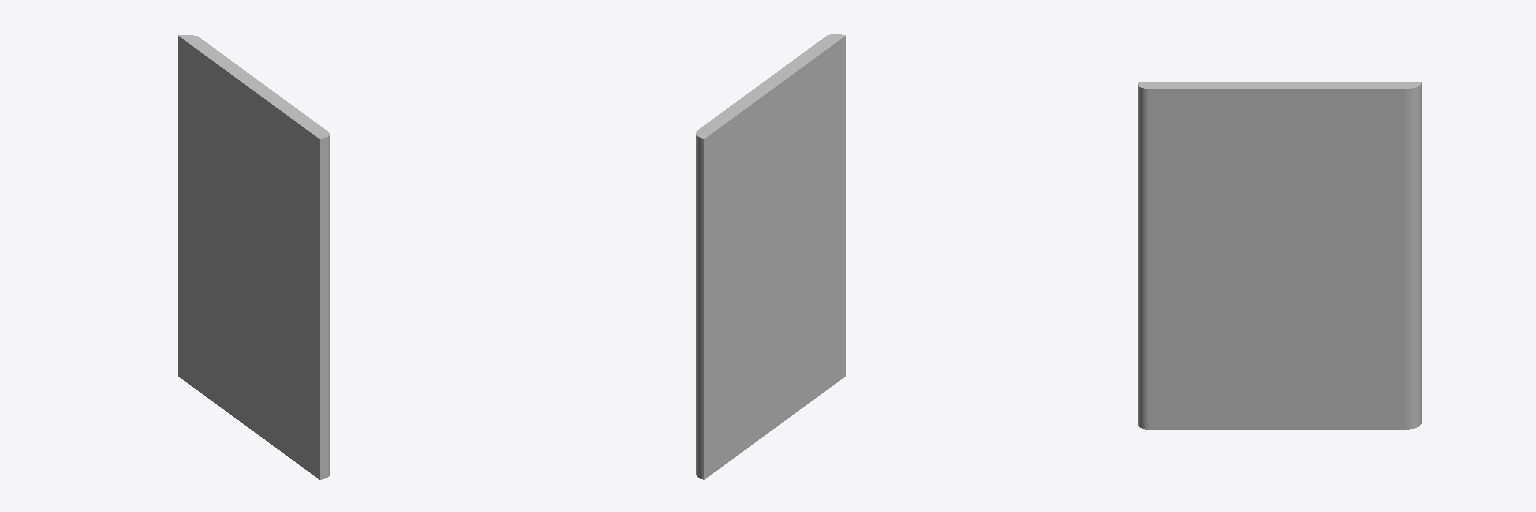
Rendered from original-5.obj.
The picture shows the model from 3 angles: view 1: azimuth 30°, elevation 25°; view 2: azimuth 150°, elevation 25°; view 3: azimuth 270°, elevation 25°; orthographic projection.
Visible parts, largest first — view 1: mesh6/mesh6-geometry#mesh6-geometry; view 2: mesh6/mesh6-geometry#mesh6-geometry; view 3: mesh6/mesh6-geometry#mesh6-geometry.
Part boxes in pixels (x1,y1,x2,y2): mesh6/mesh6-geometry#mesh6-geometry: (178, 35, 329, 479); mesh6/mesh6-geometry#mesh6-geometry: (696, 34, 845, 479); mesh6/mesh6-geometry#mesh6-geometry: (1138, 82, 1421, 429).
Bounding box in the file's own units: 0.0449 × 1.03 × 0.7779.